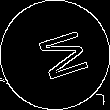M_W: (24, 25, 86, 85)
